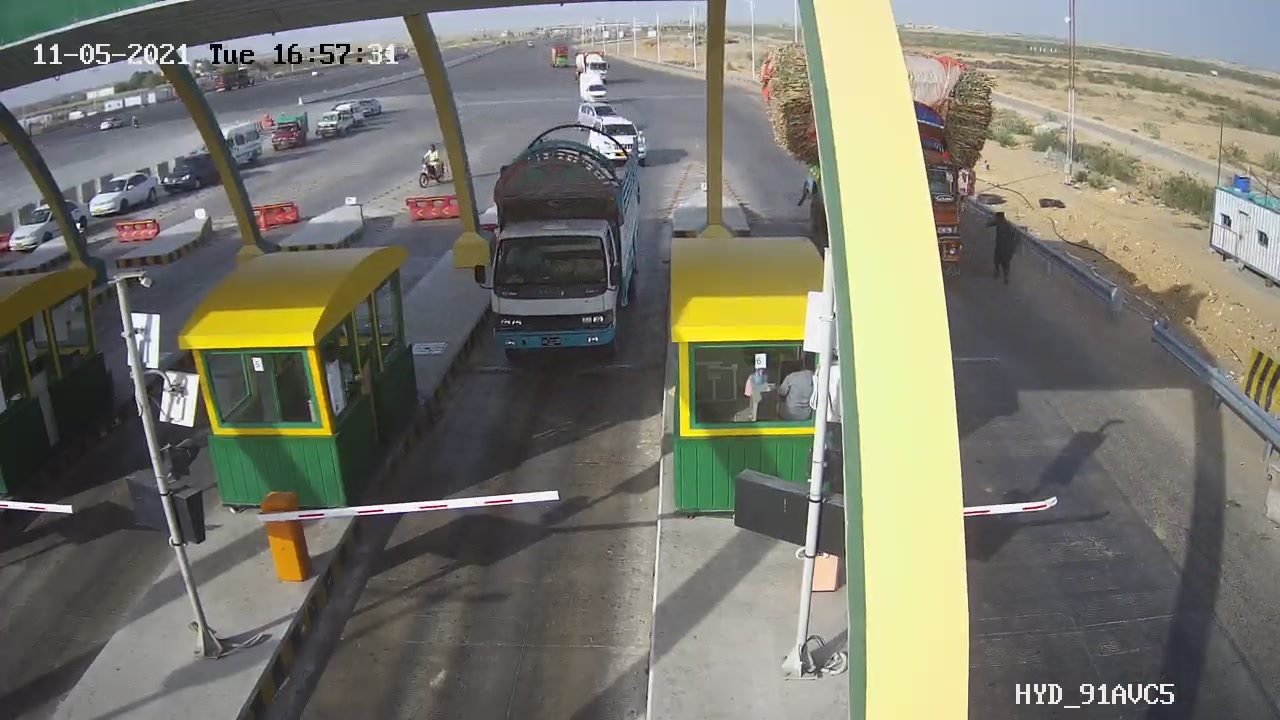F5: (459, 110, 658, 372)
